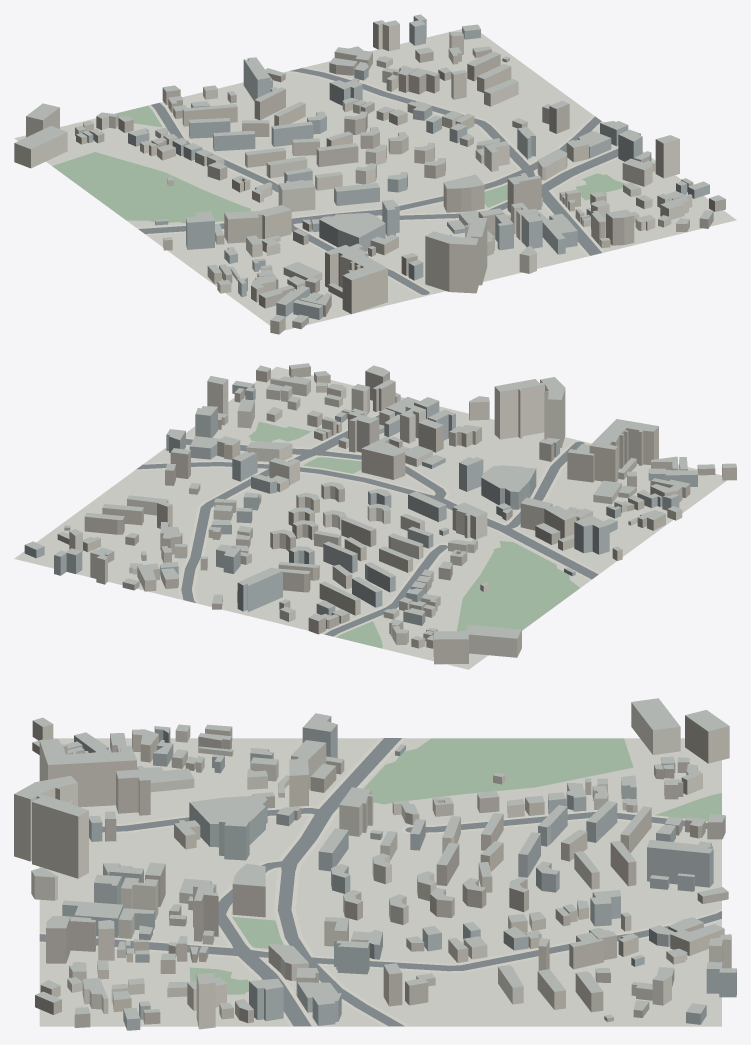
3 views of the same model, one above another, from view 1: azimuth 30°, elevation 25°; view 2: azimuth 150°, elevation 25°; view 3: azimuth 270°, elevation 25° (orthographic). The views are drawn at different scales.
Parts seen in each view (by area): view 1: city; view 2: city; view 3: city.
Part boxes in pixels (left/top/right/bottom): city: left=14, top=14, right=736, bottom=334; city: left=14, top=363, right=736, bottom=669; city: left=14, top=698, right=736, bottom=1030.
Size of the model in its own units: 534 by 50.4 by 530.
